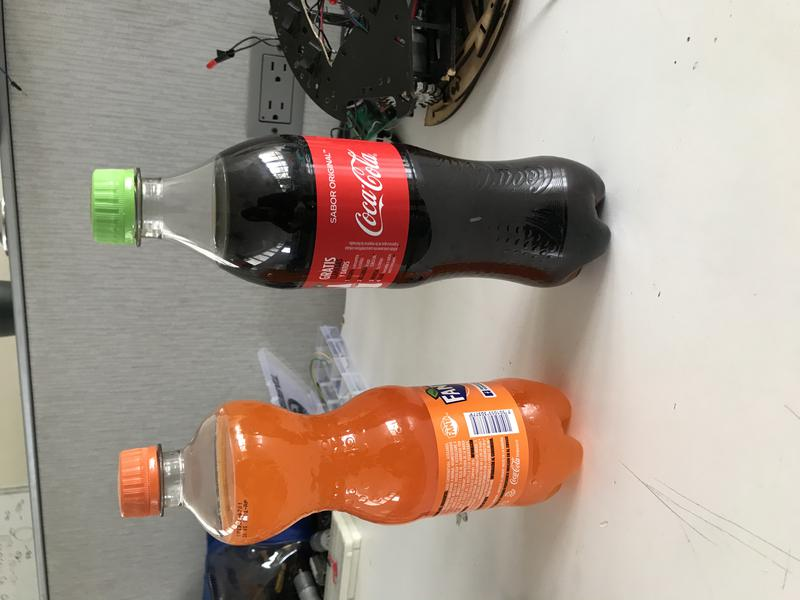coca_cola: (90, 135, 611, 292)
fanta: (118, 379, 586, 544)
